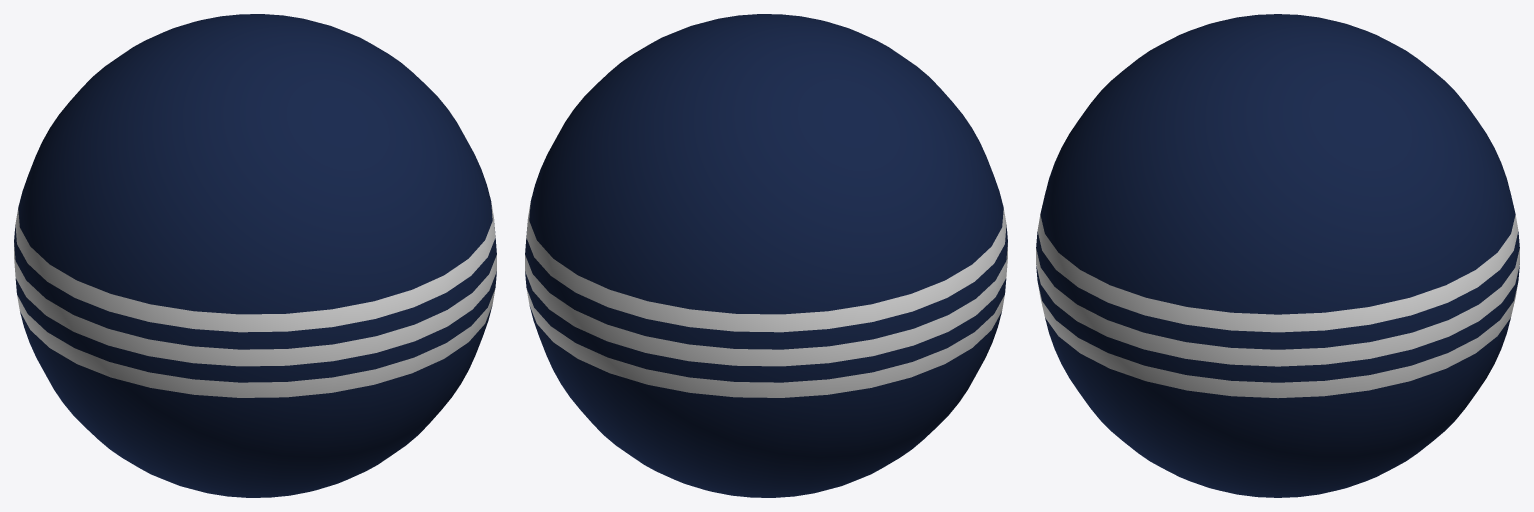
Rendered from ball_blue.fbx.
3 renders of one model, left to right at view 1: azimuth 30°, elevation 25°; view 2: azimuth 150°, elevation 25°; view 3: azimuth 270°, elevation 25°, orthographic.
Visible parts, largest first — view 1: Sphere.001; view 2: Sphere.001; view 3: Sphere.001.
Part boxes in pixels (box(x1,y1,x2,y2)): Sphere.001: box(14, 14, 496, 497); Sphere.001: box(525, 14, 1007, 497); Sphere.001: box(1036, 14, 1519, 497).
Bounding box in the file's own units: 887 × 888 × 887.
